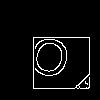O: (25, 25, 76, 81)
